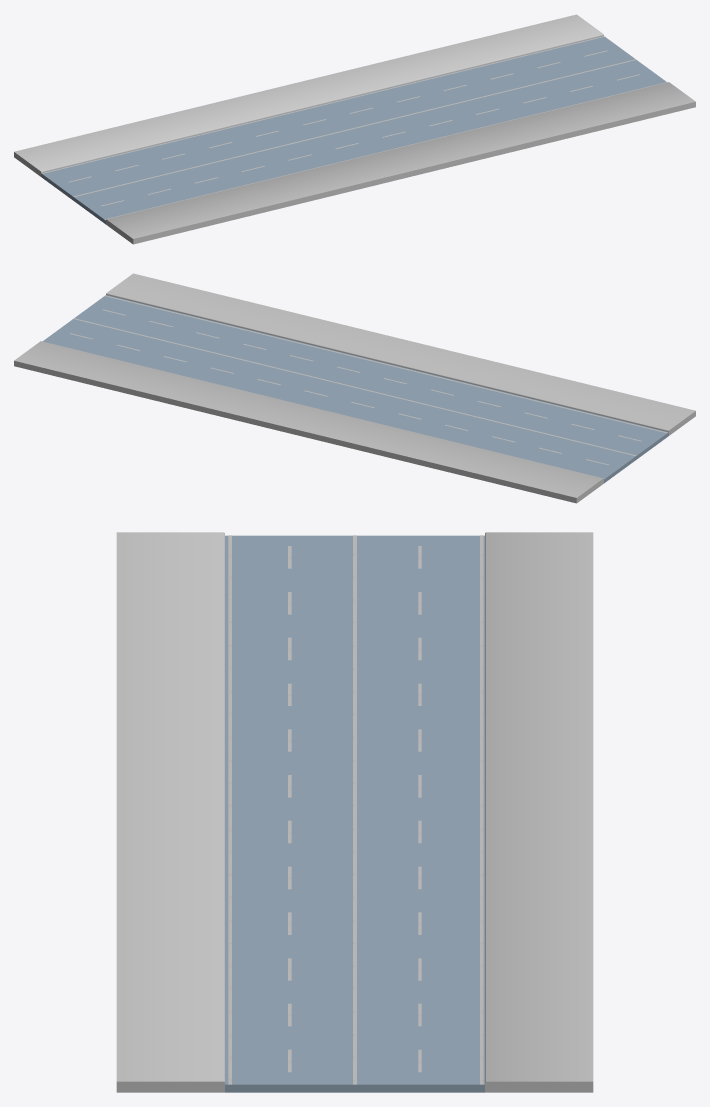
The model's file is Road_002.fbx.
3 views of the same model, one above another, from view 1: azimuth 30°, elevation 25°; view 2: azimuth 150°, elevation 25°; view 3: azimuth 270°, elevation 25° (orthographic). The views are drawn at different scales.
Parts seen in each view (by area): view 1: Road_002; view 2: Road_002; view 3: Road_002.
Part boxes in pixels (x1,y1,x2,y2): Road_002: (14, 14, 695, 244); Road_002: (14, 273, 695, 503); Road_002: (116, 532, 593, 1092).
Bounding box in the file's own units: 6000 × 56.17 × 2202.
